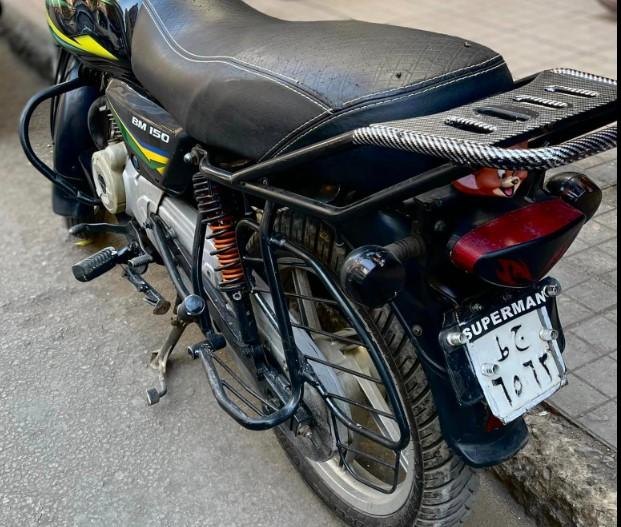License Plate: (459, 303, 572, 420)
